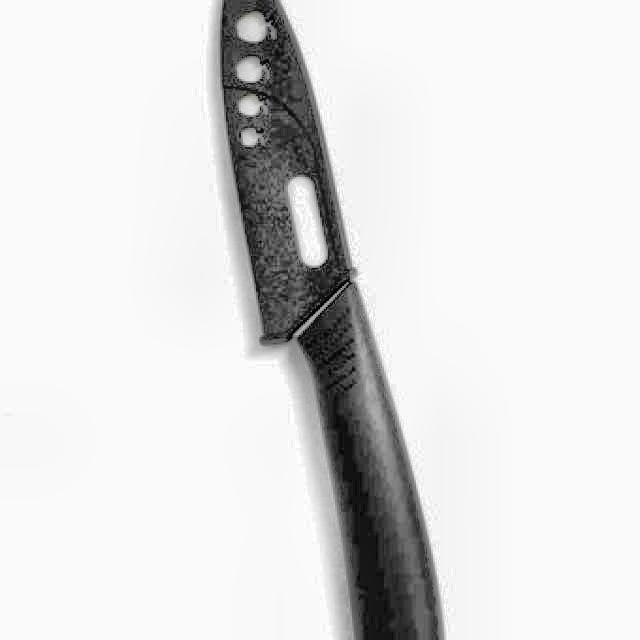knife: (208, 0, 453, 640)
